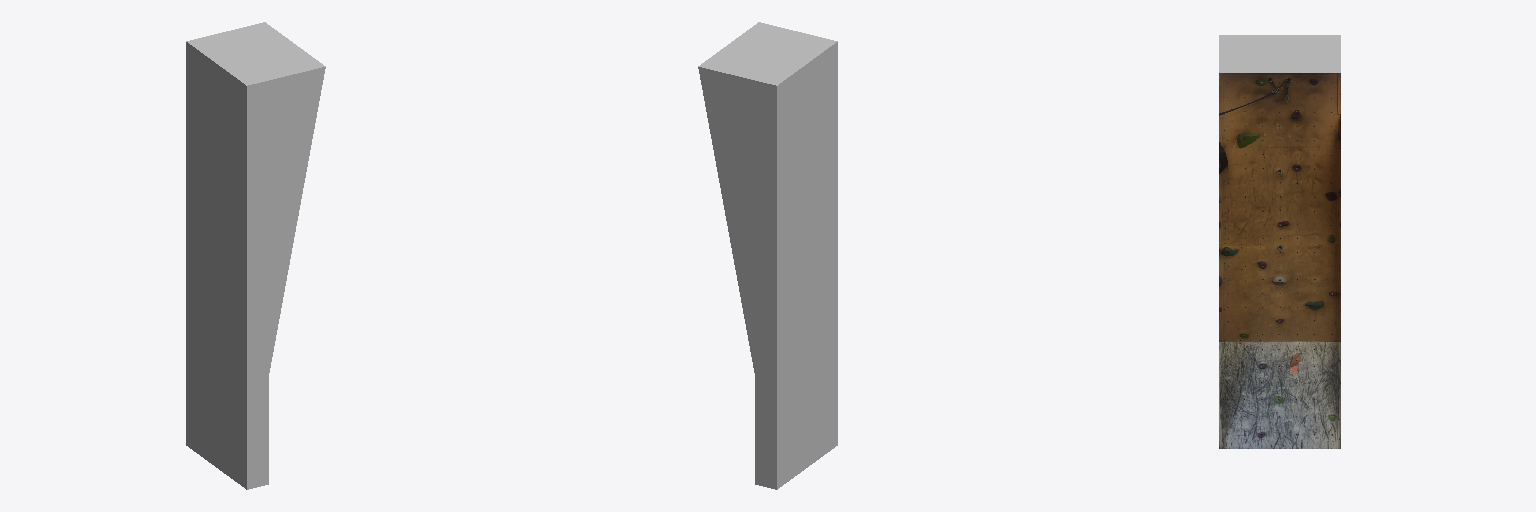
3 views of the same model, side by side, from view 1: azimuth 30°, elevation 25°; view 2: azimuth 150°, elevation 25°; view 3: azimuth 270°, elevation 25° (orthographic).
Parts seen in each view (by area): view 1: Cube; view 2: Cube; view 3: Cube.
Boxes of the visible parts, x1,y1,x2,y2 form: Cube: [186, 22, 325, 489]; Cube: [698, 22, 837, 489]; Cube: [1219, 35, 1340, 448].
Bounding box in the file's own units: 0.9 × 4.4 × 1.2.
2 materials, 1 textured.